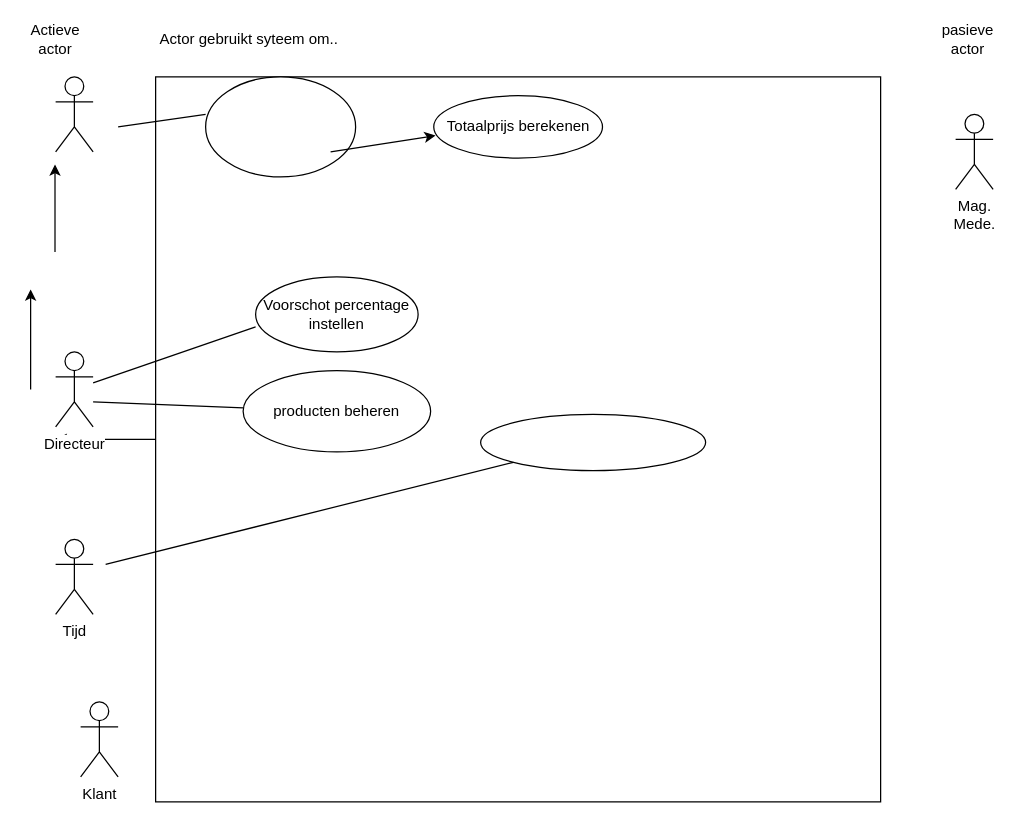
Some shapes in this 1016 by 825 pixel diagram are drawn without their labels. The centre of each missing label's shape, as x and y in pixels:
Artikelen in reclame zetten: (x=592, y=442)
Bestelbalie: (x=73, y=114)
Bestellingen beheren: (x=280, y=126)
